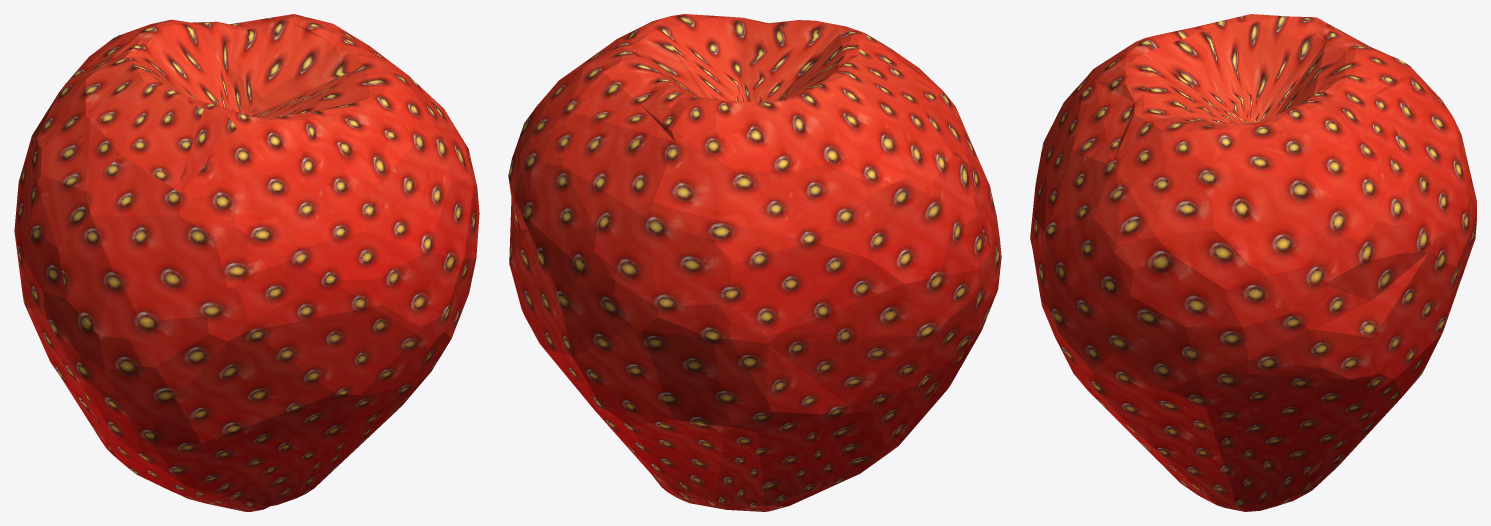
The picture shows the model from 3 angles, left to right: view 1: azimuth 30°, elevation 25°; view 2: azimuth 150°, elevation 25°; view 3: azimuth 270°, elevation 25°; orthographic projection. The views are drawn at different scales.
Parts seen in each view (by area): view 1: _000_Meshed; view 2: _000_Meshed; view 3: _000_Meshed.
Part boxes in pixels (x1=…): _000_Meshed: x1=14, y1=14, x2=479, y2=511; _000_Meshed: x1=508, y1=14, x2=1001, y2=511; _000_Meshed: x1=1030, y1=14, x2=1476, y2=511.
Bounding box in the file's own units: 0.1127 × 0.1067 × 0.1146.
1 material, 1 textured.
